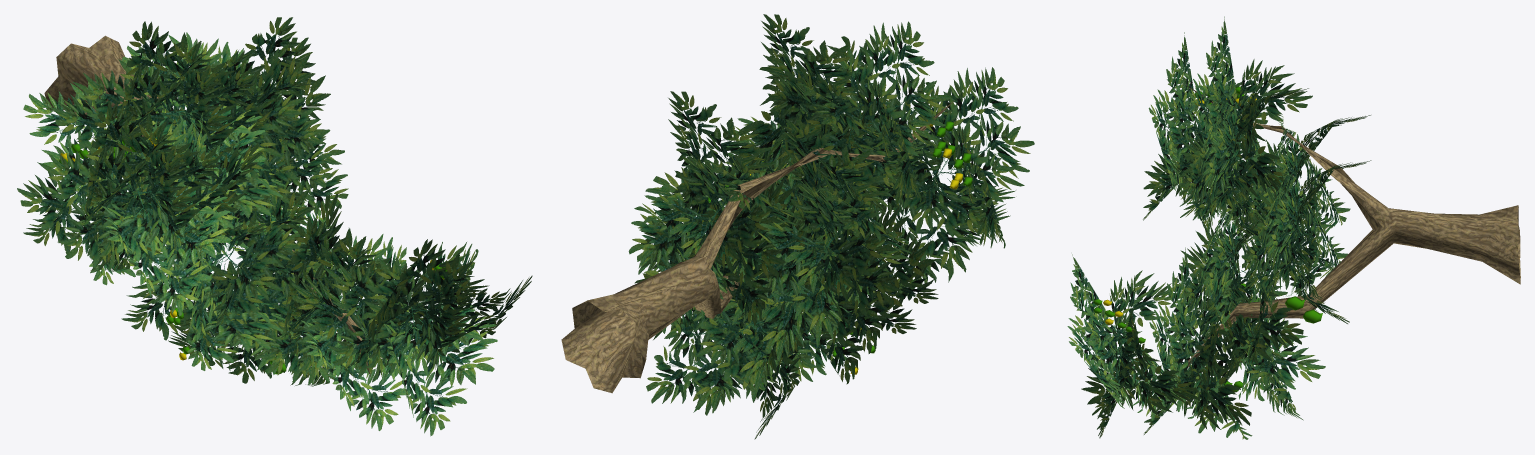
The model's file is tree.obj.
3 views of the same model, side by side, from view 1: azimuth 30°, elevation 25°; view 2: azimuth 150°, elevation 25°; view 3: azimuth 270°, elevation 25° (orthographic). The views are drawn at different scales.
Parts seen in each view (by area): view 1: Plane.002_Plane.000, Plane.001_Plane.029, Plane.005, Plane.007, Plane.003_Plane.002, Plane.006, Plane.004_Plane.003, Plane.009, Plane.008, Plane.000_Plane.001; view 2: Plane.009, Plane.008, Plane.005, Plane.002_Plane.000, Plane.000_Plane.001, Plane.004_Plane.003, Plane.006, Plane.007, Plane.003_Plane.002, Plane.001_Plane.029; view 3: Plane.000_Plane.001, Plane.001_Plane.029, Plane.008, Plane.003_Plane.002, Plane.005, Plane.004_Plane.003, Plane.006, Plane.002_Plane.000, Plane.007, Plane.009.
Boxes of the visible parts, <box> form: Plane.002_Plane.000: <box>17,102,262,316</box>; Plane.001_Plane.029: <box>291,239,532,436</box>; Plane.005: <box>52,21,293,232</box>; Plane.007: <box>121,152,328,370</box>; Plane.003_Plane.002: <box>239,217,456,430</box>; Plane.006: <box>121,17,332,235</box>; Plane.004_Plane.003: <box>166,193,368,384</box>; Plane.009: <box>23,72,215,285</box>; Plane.008: <box>142,37,348,255</box>; Plane.000_Plane.001: <box>44,35,370,376</box>; Plane.009: <box>743,119,938,361</box>; Plane.008: <box>628,91,821,333</box>; Plane.005: <box>735,21,950,249</box>; Plane.002_Plane.000: <box>833,67,1034,299</box>; Plane.000_Plane.001: <box>561,100,954,393</box>; Plane.004_Plane.003: <box>634,201,858,439</box>; Plane.006: <box>725,14,910,248</box>; Plane.007: <box>723,158,916,391</box>; Plane.003_Plane.002: <box>641,194,820,415</box>; Plane.001_Plane.029: <box>637,124,818,338</box>; Plane.000_Plane.001: <box>1151,83,1520,380</box>; Plane.001_Plane.029: <box>1067,254,1199,438</box>; Plane.008: <box>1241,157,1371,323</box>; Plane.003_Plane.002: <box>1144,247,1267,439</box>; Plane.005: <box>1183,16,1312,206</box>; Plane.004_Plane.003: <box>1195,259,1325,420</box>; Plane.006: <box>1179,85,1308,249</box>; Plane.002_Plane.000: <box>1143,32,1268,223</box>; Plane.007: <box>1180,197,1302,362</box>; Plane.009: <box>1243,111,1370,270</box>.
Size of the model in its own units: 9.32 by 9.01 by 10.54.
